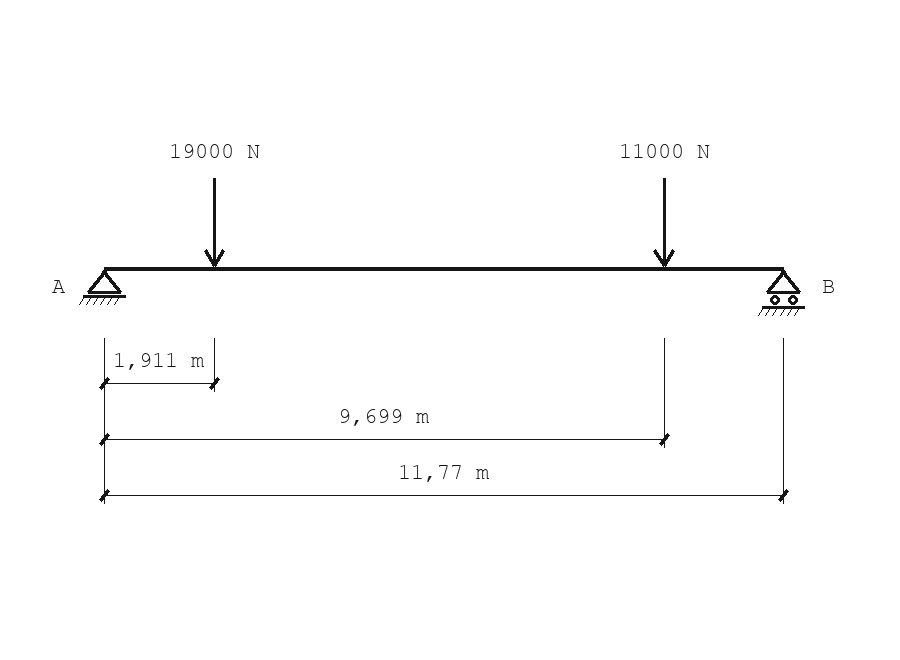pin_support: (79, 270, 126, 305)
point_load: (653, 178, 675, 267), (204, 178, 225, 267)
roller_support: (758, 270, 805, 316)
